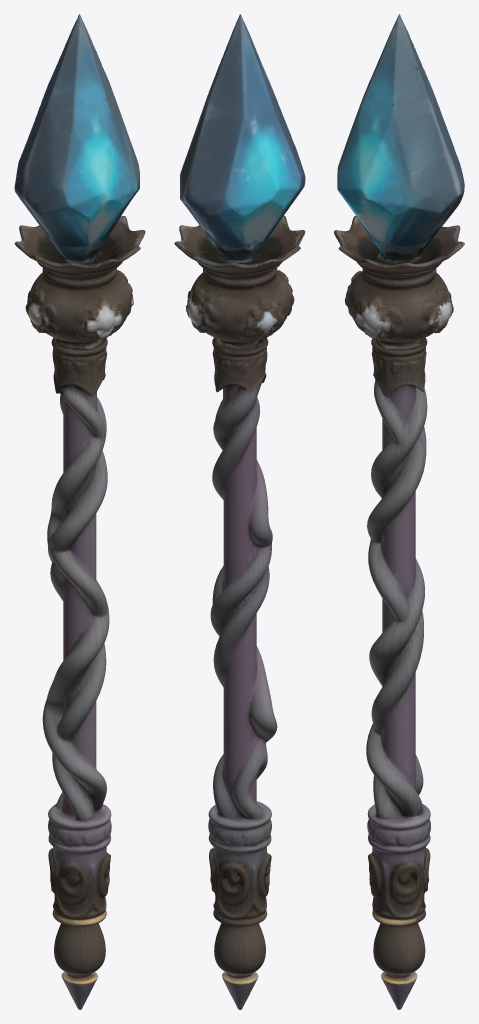
File: Staff.fbx
The picture shows the model from 3 angles, left to right: view 1: azimuth 30°, elevation 25°; view 2: azimuth 210°, elevation 25°; view 3: azimuth 330°, elevation 25°; orthographic projection.
Parts seen in each view (by area): view 1: Mesh_0; view 2: Mesh_0; view 3: Mesh_0.
Boxes of the visible parts, <box> form: Mesh_0: <box>14,14,145,1009</box>; Mesh_0: <box>174,14,305,1009</box>; Mesh_0: <box>334,14,464,1009</box>.
Size of the model in its own units: 23.87 by 200 by 23.79.
Materials: 1 (1 with a texture image).
